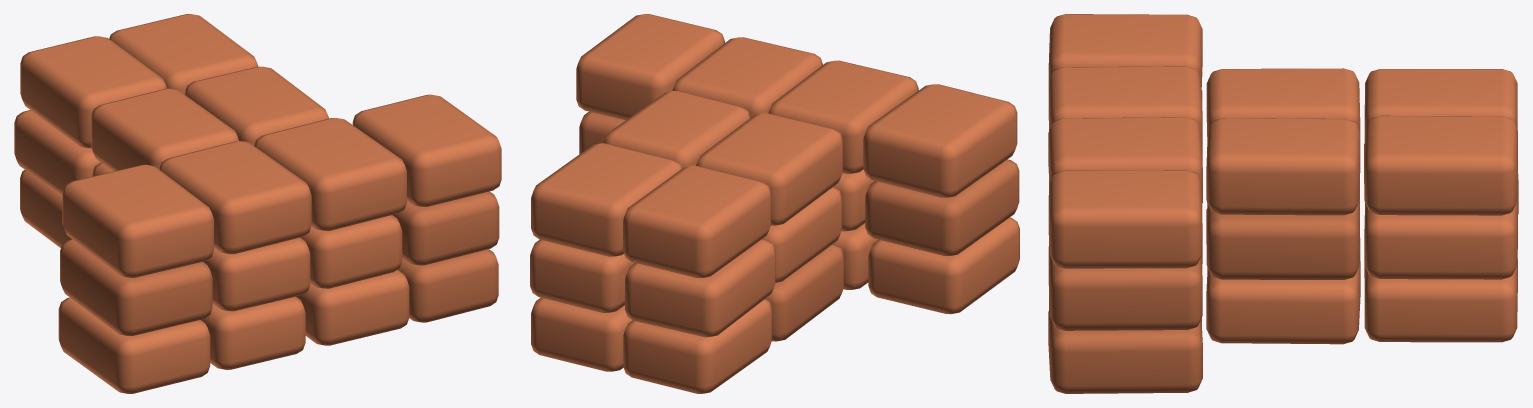
The model's file is BSC-11.glb.
3 views of the same model, side by side, from view 1: azimuth 30°, elevation 25°; view 2: azimuth 150°, elevation 25°; view 3: azimuth 270°, elevation 25° (orthographic). The views are drawn at different scales.
Visible parts, largest first — view 1: handmade block.016, handmade block.017, handmade block.020, handmade block.023, handmade block.019, handmade block.008, handmade block, handmade block.018, handmade block.022, handmade block.021, handmade block.004, handmade block.009 (+6 smaller); view 2: handmade block.016, handmade block.019, handmade block.022, handmade block.023, handmade block.018, handmade block.008, handmade block.011, handmade block, handmade block.003, handmade block.017, handmade block.020, handmade block.021 (+7 smaller); view 3: handmade block.022, handmade block.023, handmade block.021, handmade block.013, handmade block.014, handmade block.005, handmade block.007, handmade block.006, handmade block.015, handmade block.020, handmade block.016, handmade block.017 (+2 smaller).
Boxes of the visible parts, <box> form: handmade block.016: <box>62,164,213,277</box>; handmade block.017: <box>159,141,311,254</box>; handmade block.020: <box>254,118,406,230</box>; handmade block.023: <box>352,94,501,206</box>; handmade block.019: <box>20,36,166,148</box>; handmade block.008: <box>60,239,212,335</box>; handmade block: <box>58,297,210,393</box>; handmade block.018: <box>91,88,238,171</box>; handmade block.022: <box>109,14,258,94</box>; handmade block.021: <box>184,66,328,145</box>; handmade block.004: <box>296,269,409,345</box>; handmade block.009: <box>203,237,310,311</box>; handmade block.016: <box>863,84,1017,197</box>; handmade block.019: <box>623,165,771,278</box>; handmade block.022: <box>531,143,682,256</box>; handmade block.023: <box>576,14,724,120</box>; handmade block.018: <box>696,113,843,225</box>; handmade block.008: <box>865,159,1019,256</box>; handmade block.011: <box>625,239,775,337</box>; handmade block: <box>868,217,1019,314</box>; handmade block.003: <box>623,299,772,393</box>; handmade block.017: <box>768,60,918,173</box>; handmade block.020: <box>672,37,822,117</box>; handmade block.021: <box>604,91,750,168</box>; handmade block.022: <box>1364,115,1517,215</box>; handmade block.023: <box>1049,170,1202,268</box>; handmade block.021: <box>1206,118,1360,215</box>; handmade block.013: <box>1206,193,1359,279</box>; handmade block.014: <box>1364,196,1517,279</box>; handmade block.005: <box>1206,260,1360,344</box>; handmade block.007: <box>1048,309,1202,393</box>; handmade block.006: <box>1364,258,1517,342</box>; handmade block.015: <box>1048,245,1202,330</box>; handmade block.020: <box>1048,117,1202,203</box>; handmade block.016: <box>1048,14,1202,86</box>; handmade block.017: <box>1048,66,1202,152</box>.
Size of the model in its own units: 1.92 by 0.815 by 1.85.
